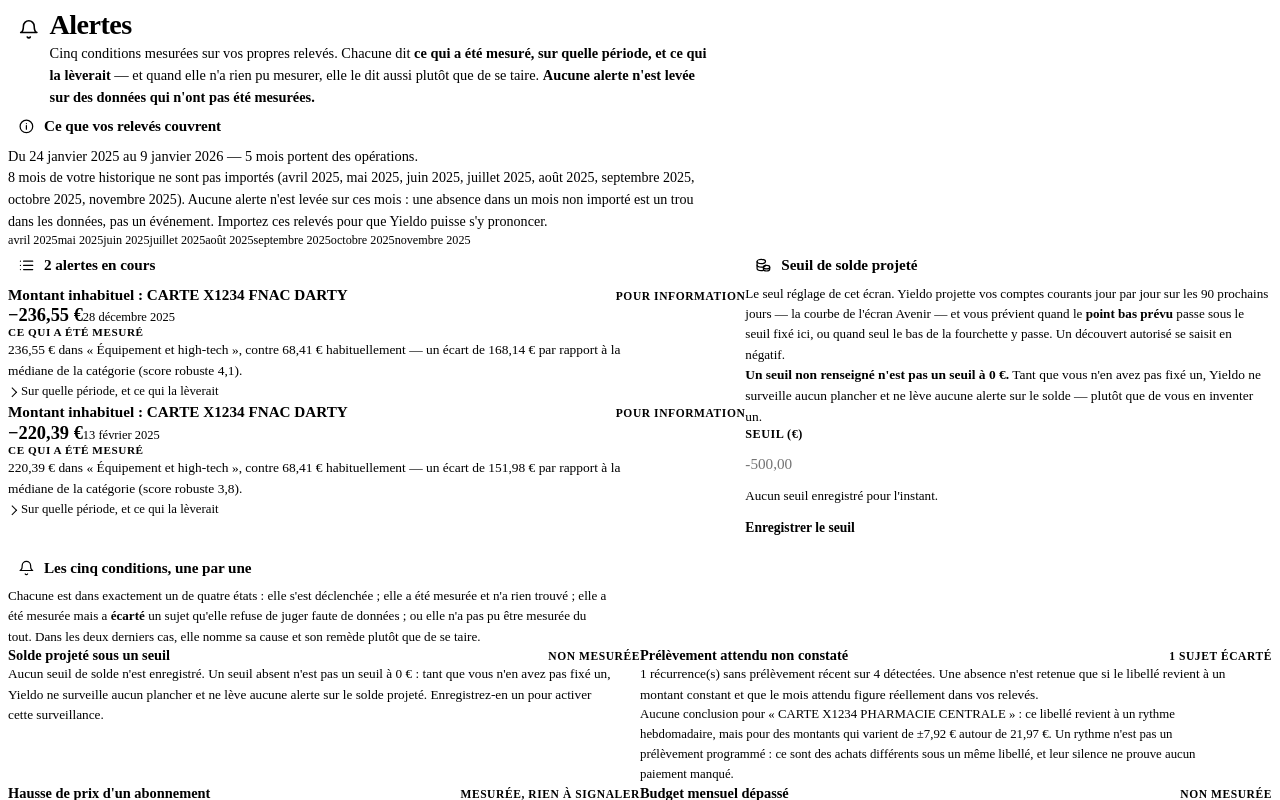
it: AlertsPage — the threshold › refuses an empty box in French rather than sending it as zero
This screenshot has width=1280, height=800.
Expected: the field labelled "Seuil (€)" is shown, [745,442,1272,486]
Click the button "Enregistrer le seuil". click: coordinates (800, 528)
box: [745,506,855,550]
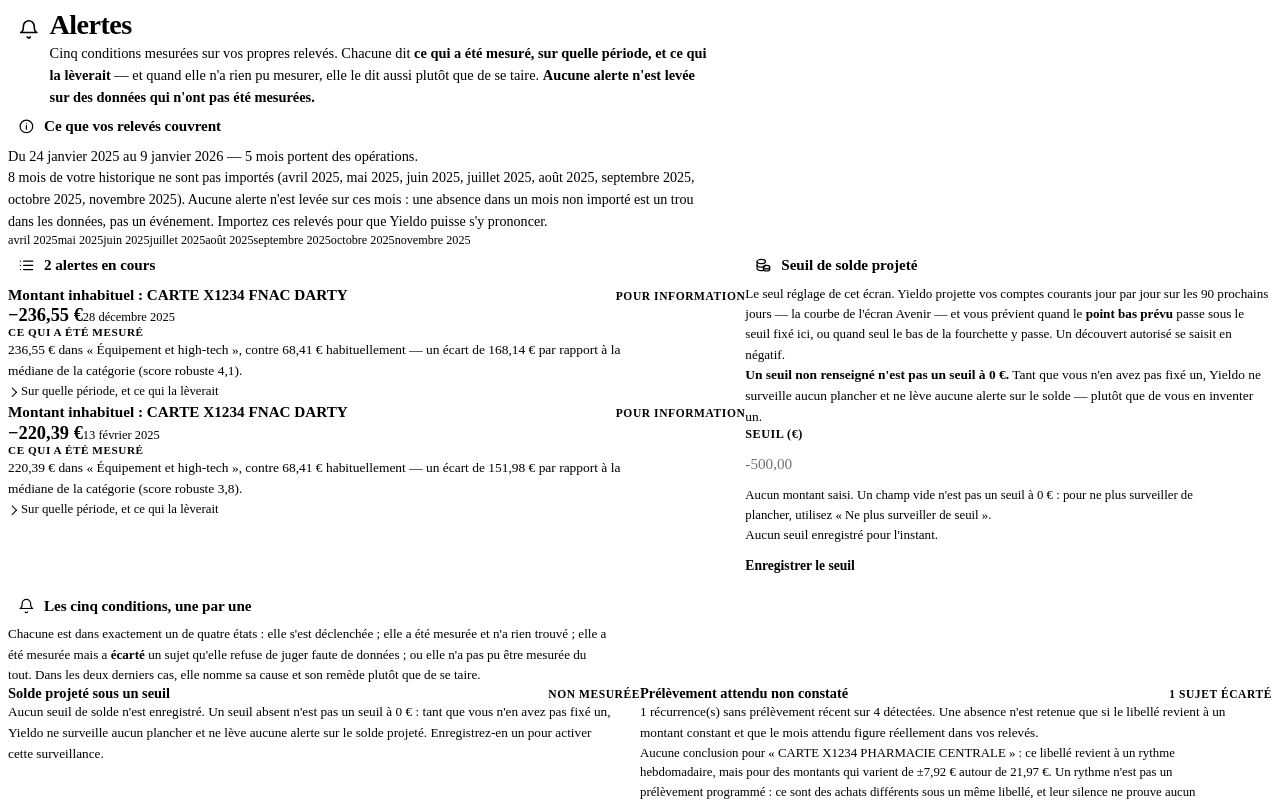
Expected: the text with test id "yd-alerts-floor-error" shows "Un champ vide n'est pas un seuil à 0 €", [745,488,1193,522]
